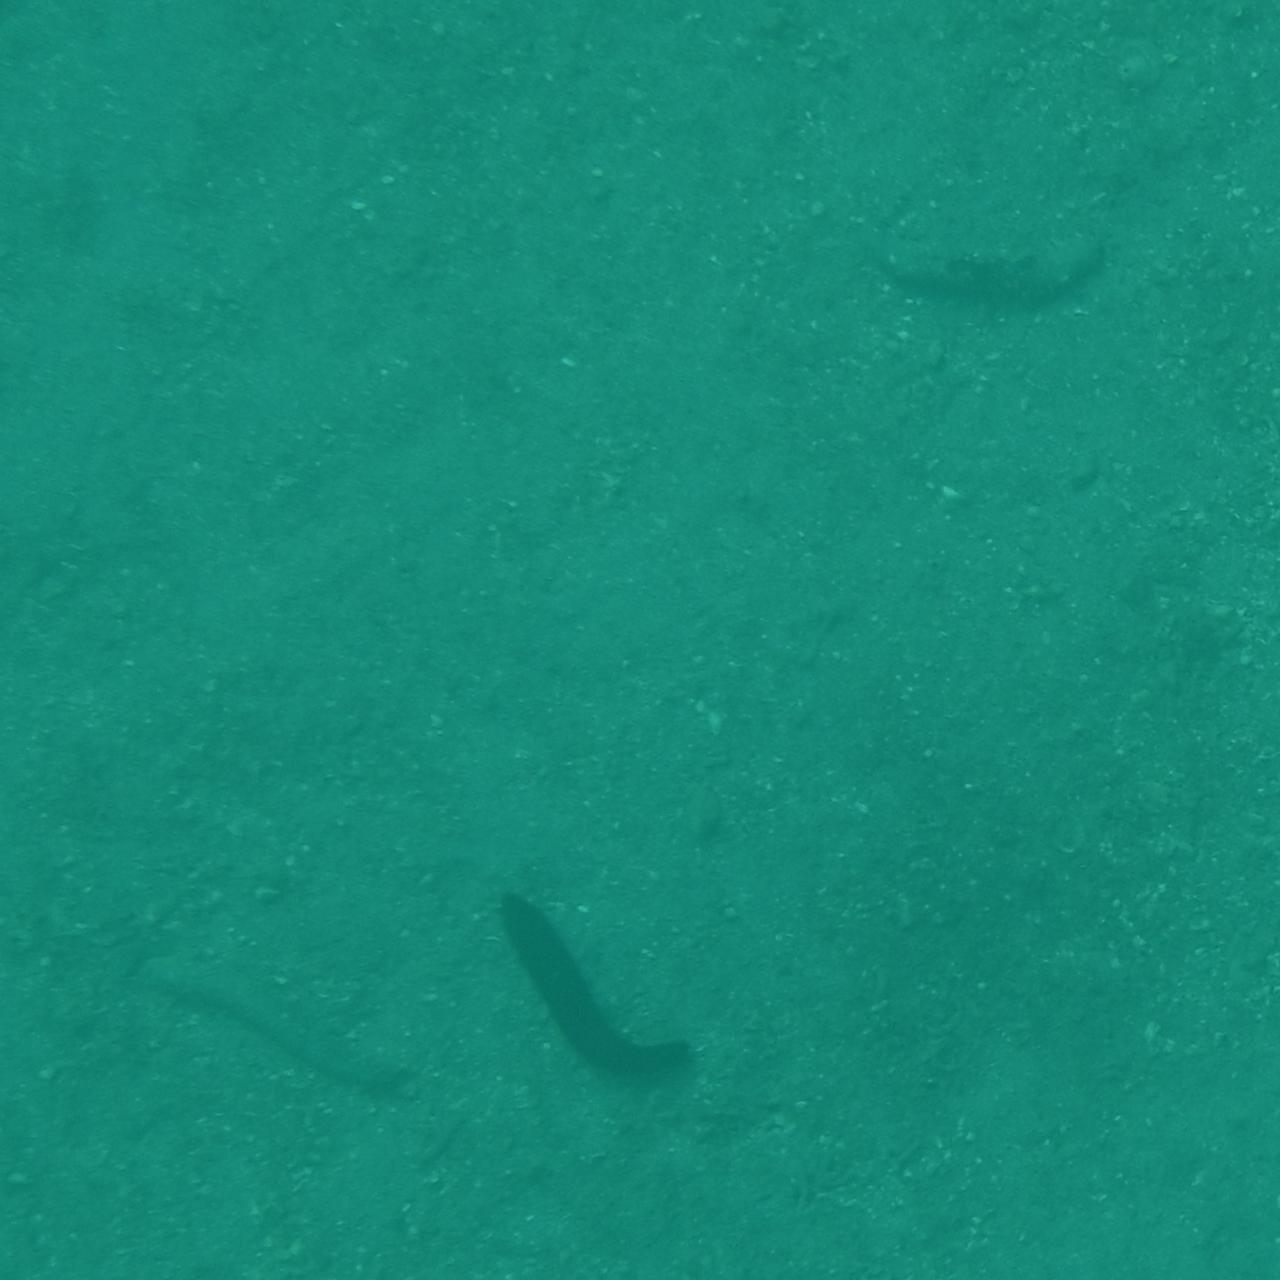Holothuria tubulosa: (111, 921, 427, 1107), (482, 881, 719, 1117), (874, 213, 1148, 319)
